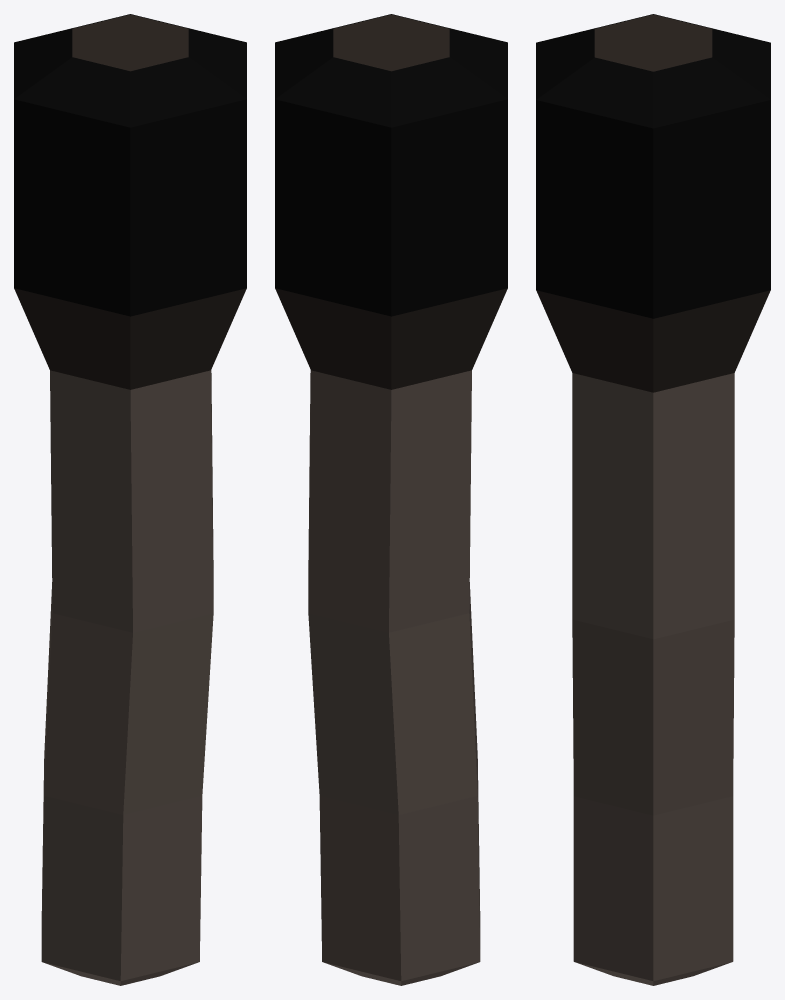
File: Torch.fbx
3 renders of one model, left to right at view 1: azimuth 30°, elevation 25°; view 2: azimuth 150°, elevation 25°; view 3: azimuth 270°, elevation 25°, orthographic.
Parts seen in each view (by area): view 1: Torch; view 2: Torch; view 3: Torch.
Boxes of the visible parts, x1,y1,x2,y2 form: Torch: (14,14,246,985); Torch: (275,14,507,985); Torch: (536,14,770,985).
Size of the model in its own units: 7.23 by 27.33 by 6.26.
Materials: 1 (1 with a texture image).
